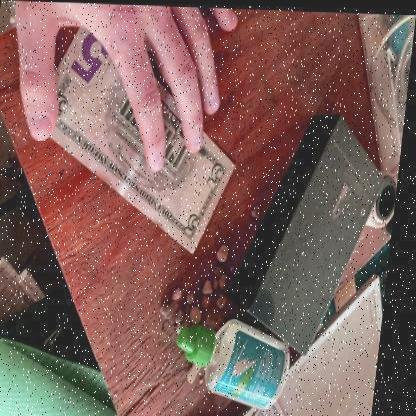five-back: (32, 10, 238, 254)
